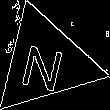N_N: (20, 33, 71, 92)
